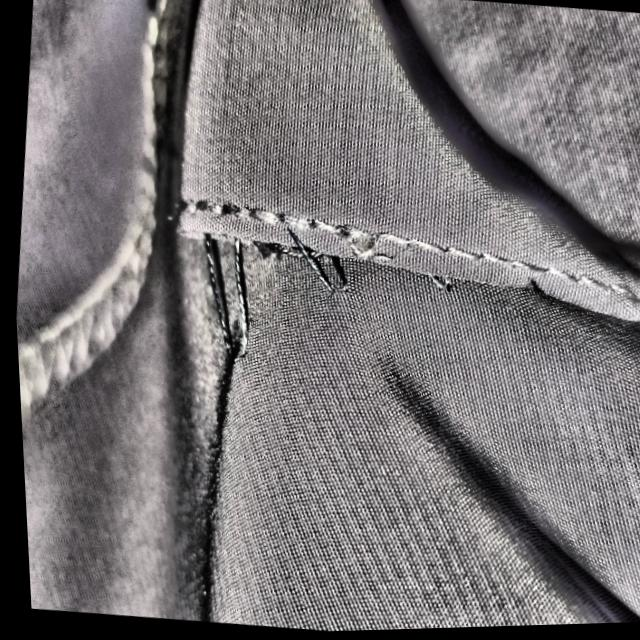Stitch: (173, 169, 374, 390)
